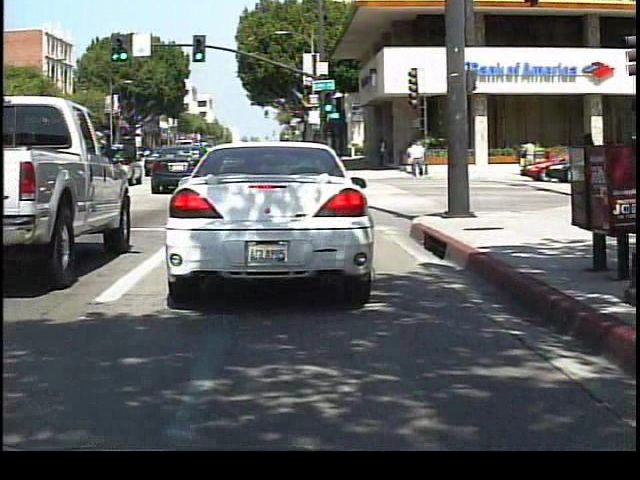person: (517, 135, 539, 177), (407, 136, 427, 179), (444, 136, 462, 177)
